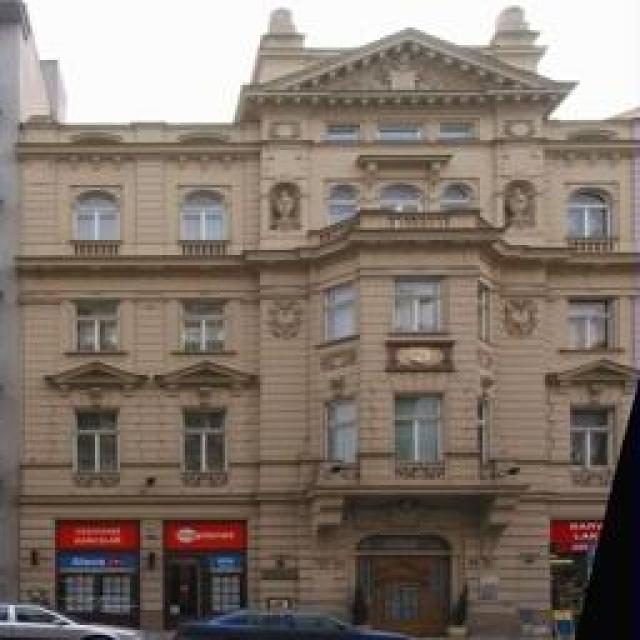building: (35, 25, 640, 640)
